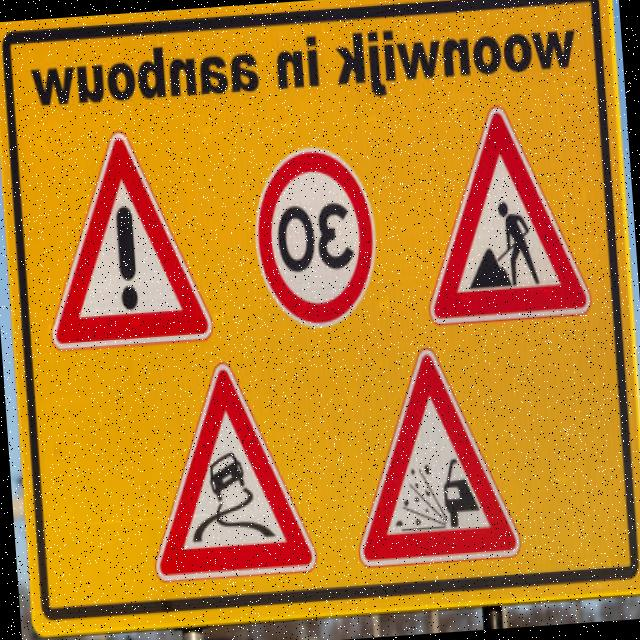road_slippery: (138, 354, 318, 587)
road_work: (416, 98, 592, 330)
speed_limit_30: (240, 138, 382, 338)
